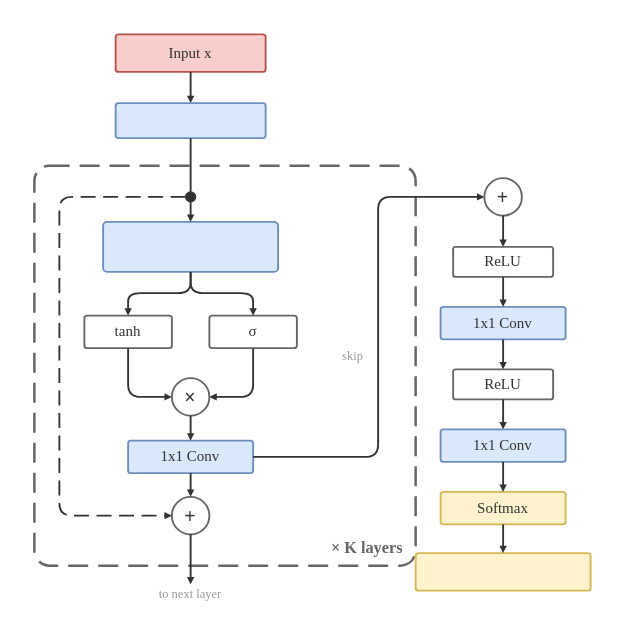
Image size: 624x635. Some labels were removed from this diagram. The centre of each missing label's shape, as x and y in pixels:
Causal Conv: [190,120]
Dilated Conv 2x1 (dilation 2 k ): [190,246]
Output p(x t | x <t ): [502,571]
